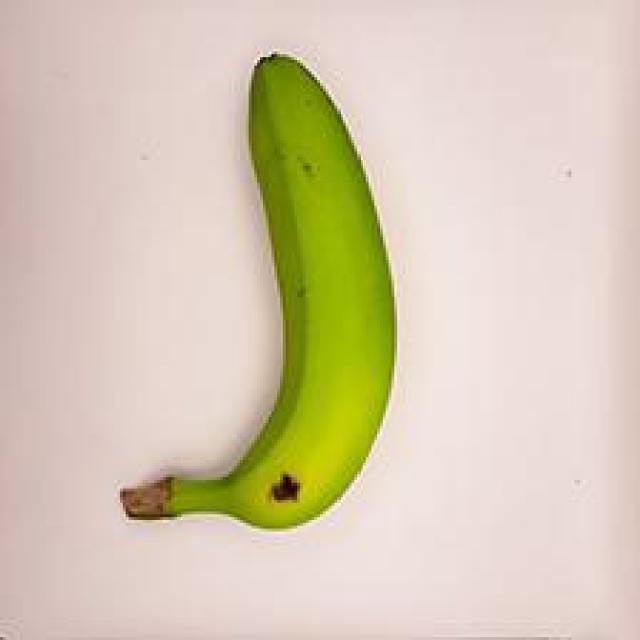Unripe: (91, 30, 432, 555)
